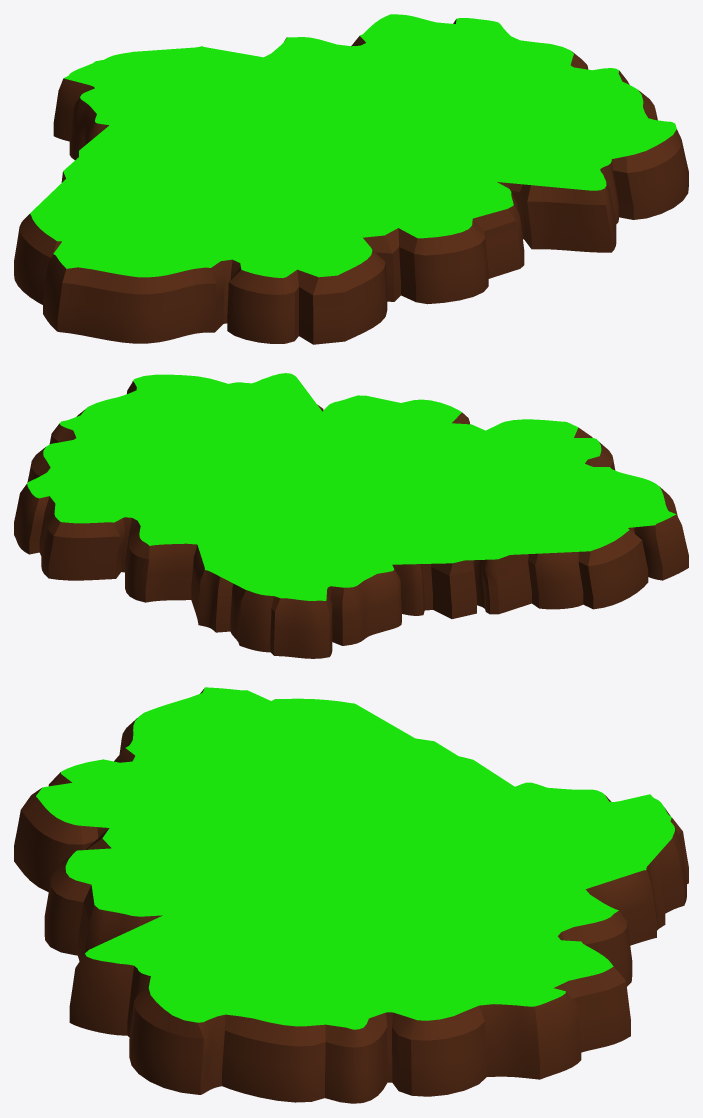
The model's file is GroundModel.FBX.
The picture shows the model from 3 angles, top to bottom: view 1: azimuth 30°, elevation 25°; view 2: azimuth 150°, elevation 25°; view 3: azimuth 270°, elevation 25°; orthographic projection. The views are drawn at different scales.
Parts seen in each view (by area): view 1: Ground; view 2: Ground; view 3: Ground.
Boxes of the visible parts, x1,y1,x2,y2 form: Ground: (14, 14, 688, 344); Ground: (14, 373, 688, 658); Ground: (14, 687, 688, 1103).
Bounding box in the file's own units: 0.2565 × 0.0223 × 0.2053.
